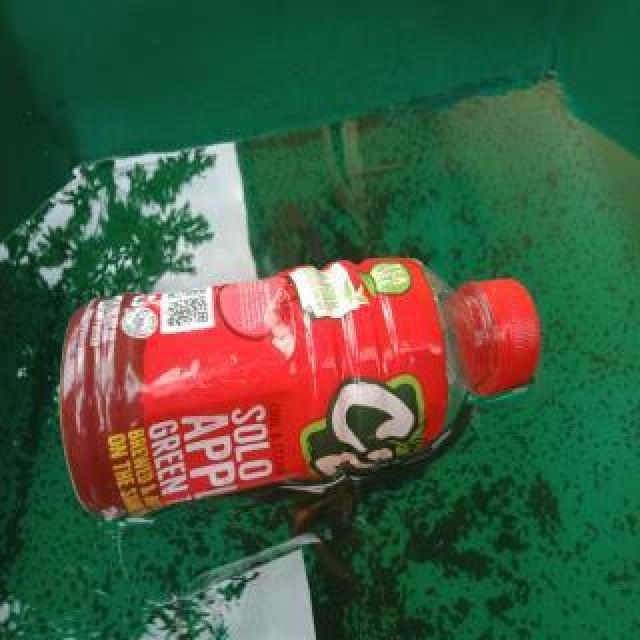bottle: (59, 248, 543, 520)
